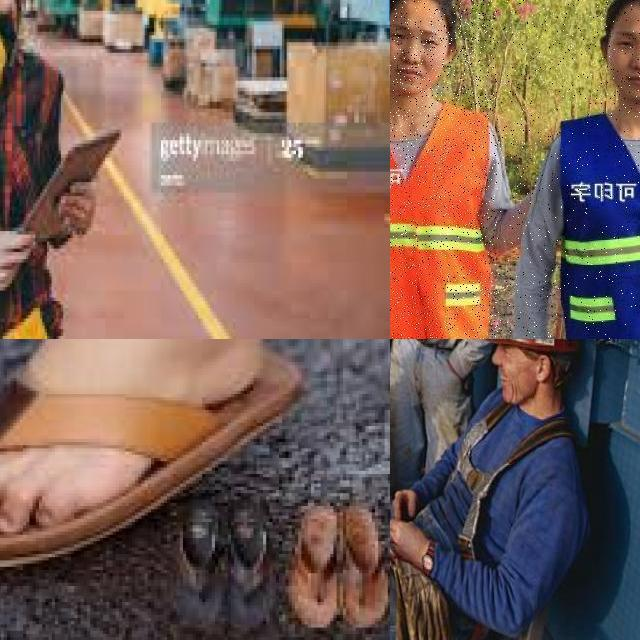Harness: (452, 404, 574, 560)
No_Glasses: (390, 21, 445, 59), (606, 23, 640, 59)
Sandals: (0, 339, 383, 636)
person: (497, 0, 640, 339), (390, 0, 508, 339), (0, 0, 103, 339)
vest: (390, 101, 505, 339), (554, 111, 640, 339)
